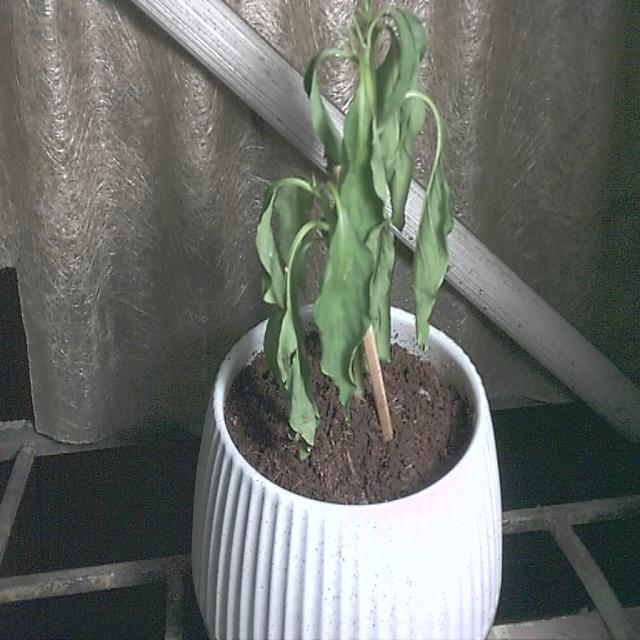Leaf: (312, 209, 374, 420), (376, 10, 424, 224), (339, 92, 389, 262), (414, 154, 454, 348), (253, 182, 290, 310)
